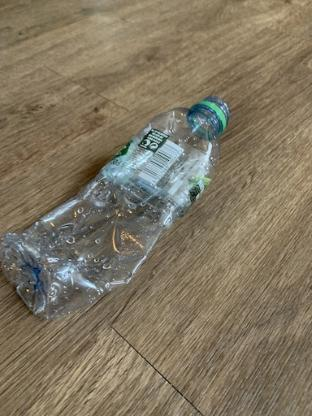Plastic Bottle: (1, 95, 230, 320)
